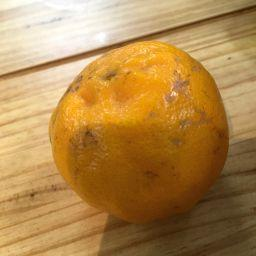Unripe: (48, 40, 229, 223)
